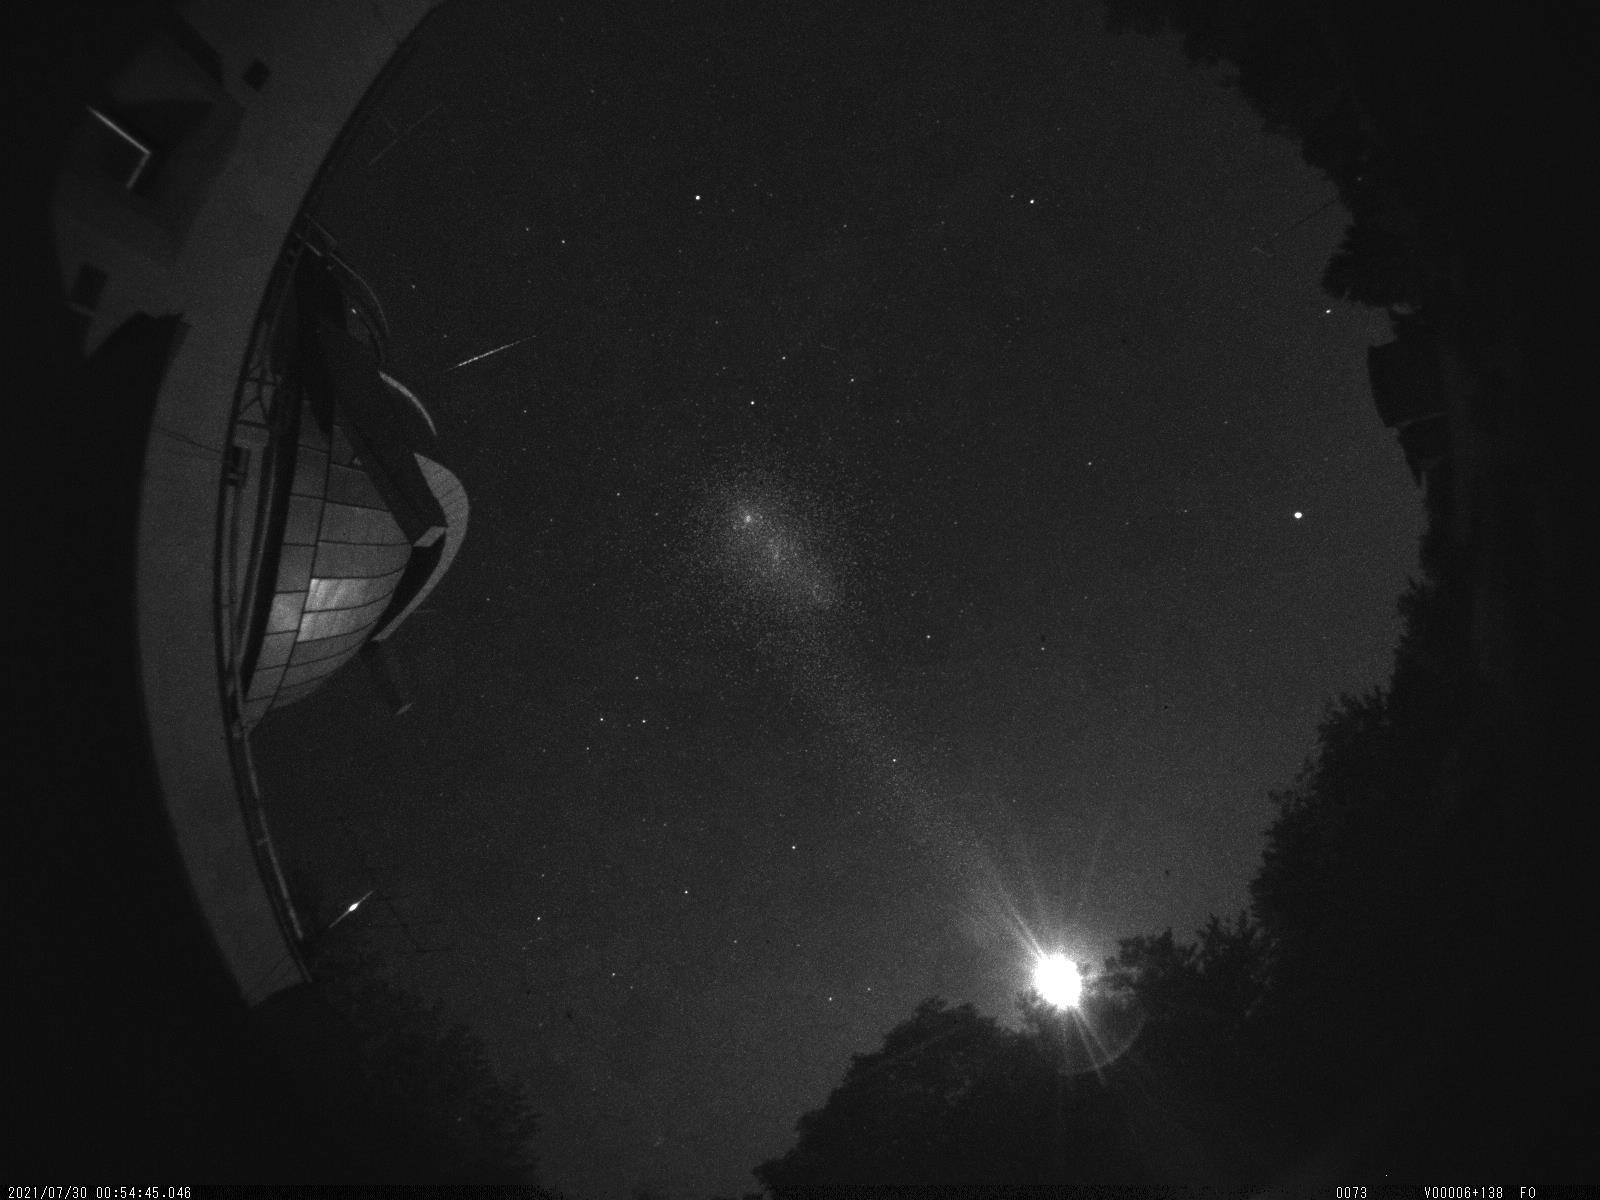Meteor: (447, 329, 540, 386)
